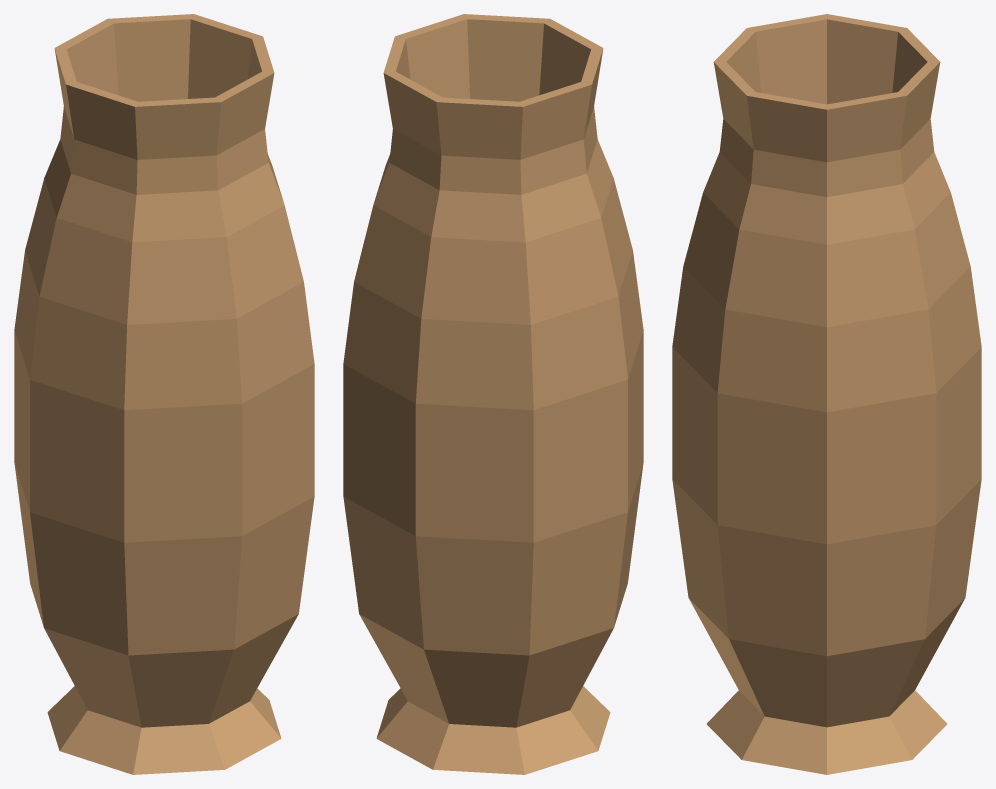
The model's file is Prop_Vase_1.fbx.
3 renders of one model, left to right at view 1: azimuth 30°, elevation 25°; view 2: azimuth 150°, elevation 25°; view 3: azimuth 270°, elevation 25°, orthographic.
Parts seen in each view (by area): view 1: object1; view 2: object1; view 3: object1.
Part boxes in pixels (x1,y1,x2,y2): object1: [14, 14, 314, 774]; object1: [343, 14, 643, 774]; object1: [672, 14, 981, 774].
Size of the model in its own units: 0.1985 by 0.4686 by 0.1985.
